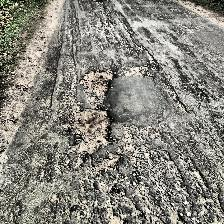pothole: (66, 106, 116, 156), (78, 67, 118, 101)
